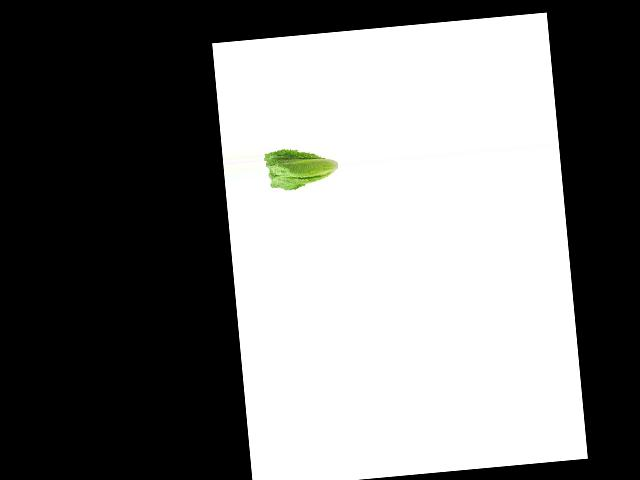lettuce: (263, 142, 339, 197)
